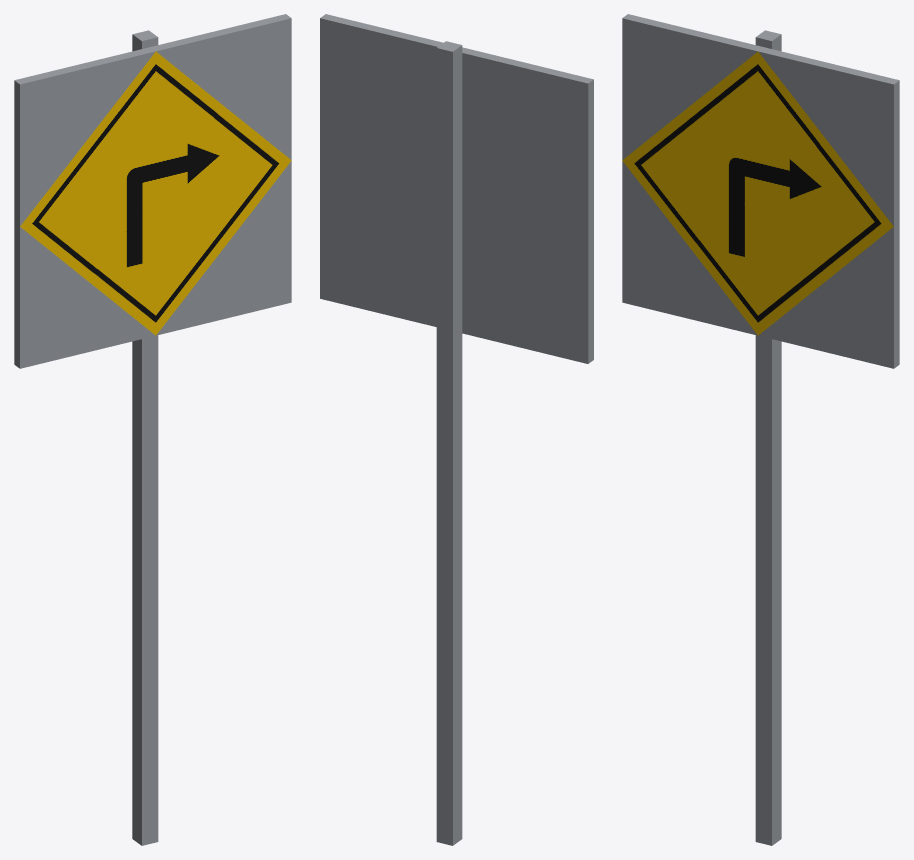
File: us_warn_turn_r.dae
3 renders of one model, left to right at view 1: azimuth 30°, elevation 25°; view 2: azimuth 150°, elevation 25°; view 3: azimuth 330°, elevation 25°, orthographic.
Parts seen in each view (by area): view 1: sign4, Colmesh-1; view 2: Colmesh-1, sign4; view 3: sign4, Colmesh-1.
Boxes of the visible parts, bbox=[...] form: sign4: bbox=[20, 30, 291, 845]; Colmesh-1: bbox=[14, 14, 291, 368]; Colmesh-1: bbox=[320, 14, 593, 363]; sign4: bbox=[436, 41, 462, 845]; sign4: bbox=[622, 30, 893, 845]; Colmesh-1: bbox=[622, 14, 899, 368].
Bounding box in the file's own units: 1.08 × 0.105 × 3.05.
Materials: 2 (1 with a texture image).
